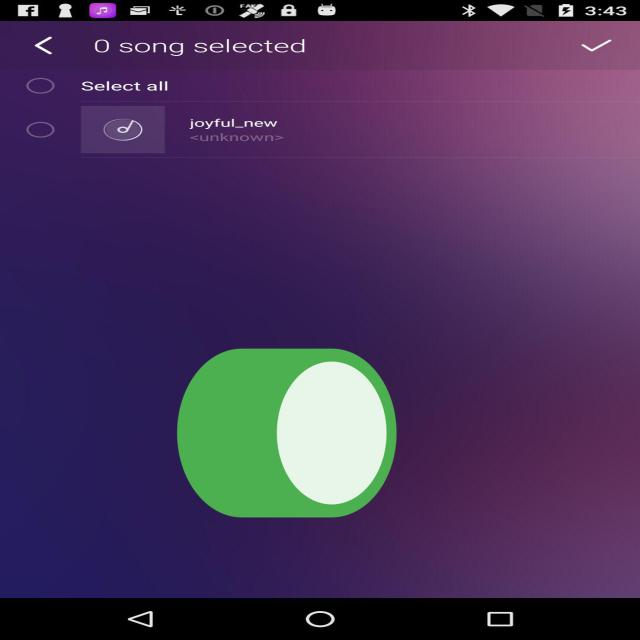social proof: (167, 284, 407, 595)
